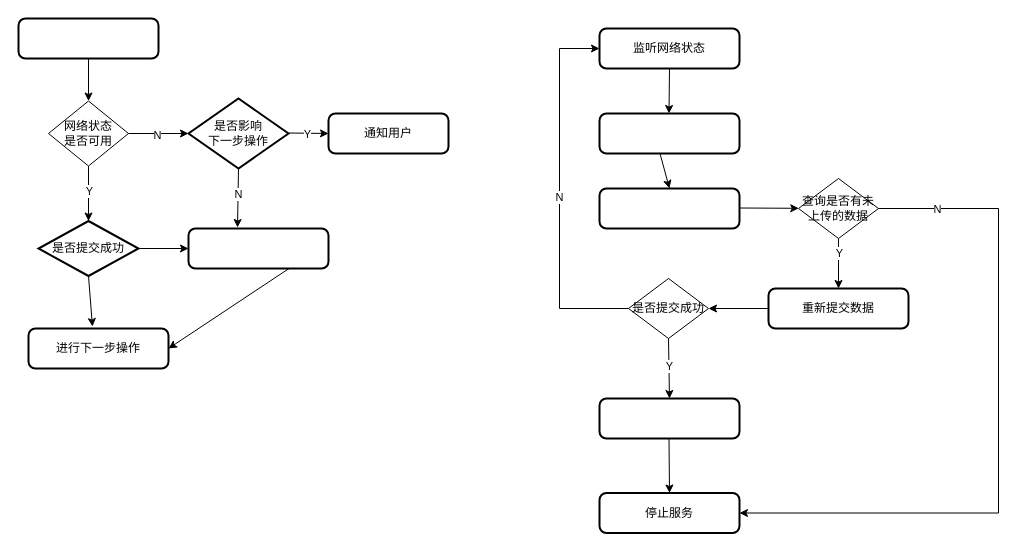
The diagram is 1024 pixels wide and 551 high, and some of its shapes have lost their labels. Each missing label, with the centre of its shape:
"删除对应的数据" belongs at (x=669, y=418).
"启动启动一个服务" belongs at (x=669, y=208).
"把URL，参数等数据存到数据库中" belongs at (x=258, y=248).
"用户提交数据" belongs at (x=88, y=38).
"网络状态正常" belongs at (x=669, y=133).
